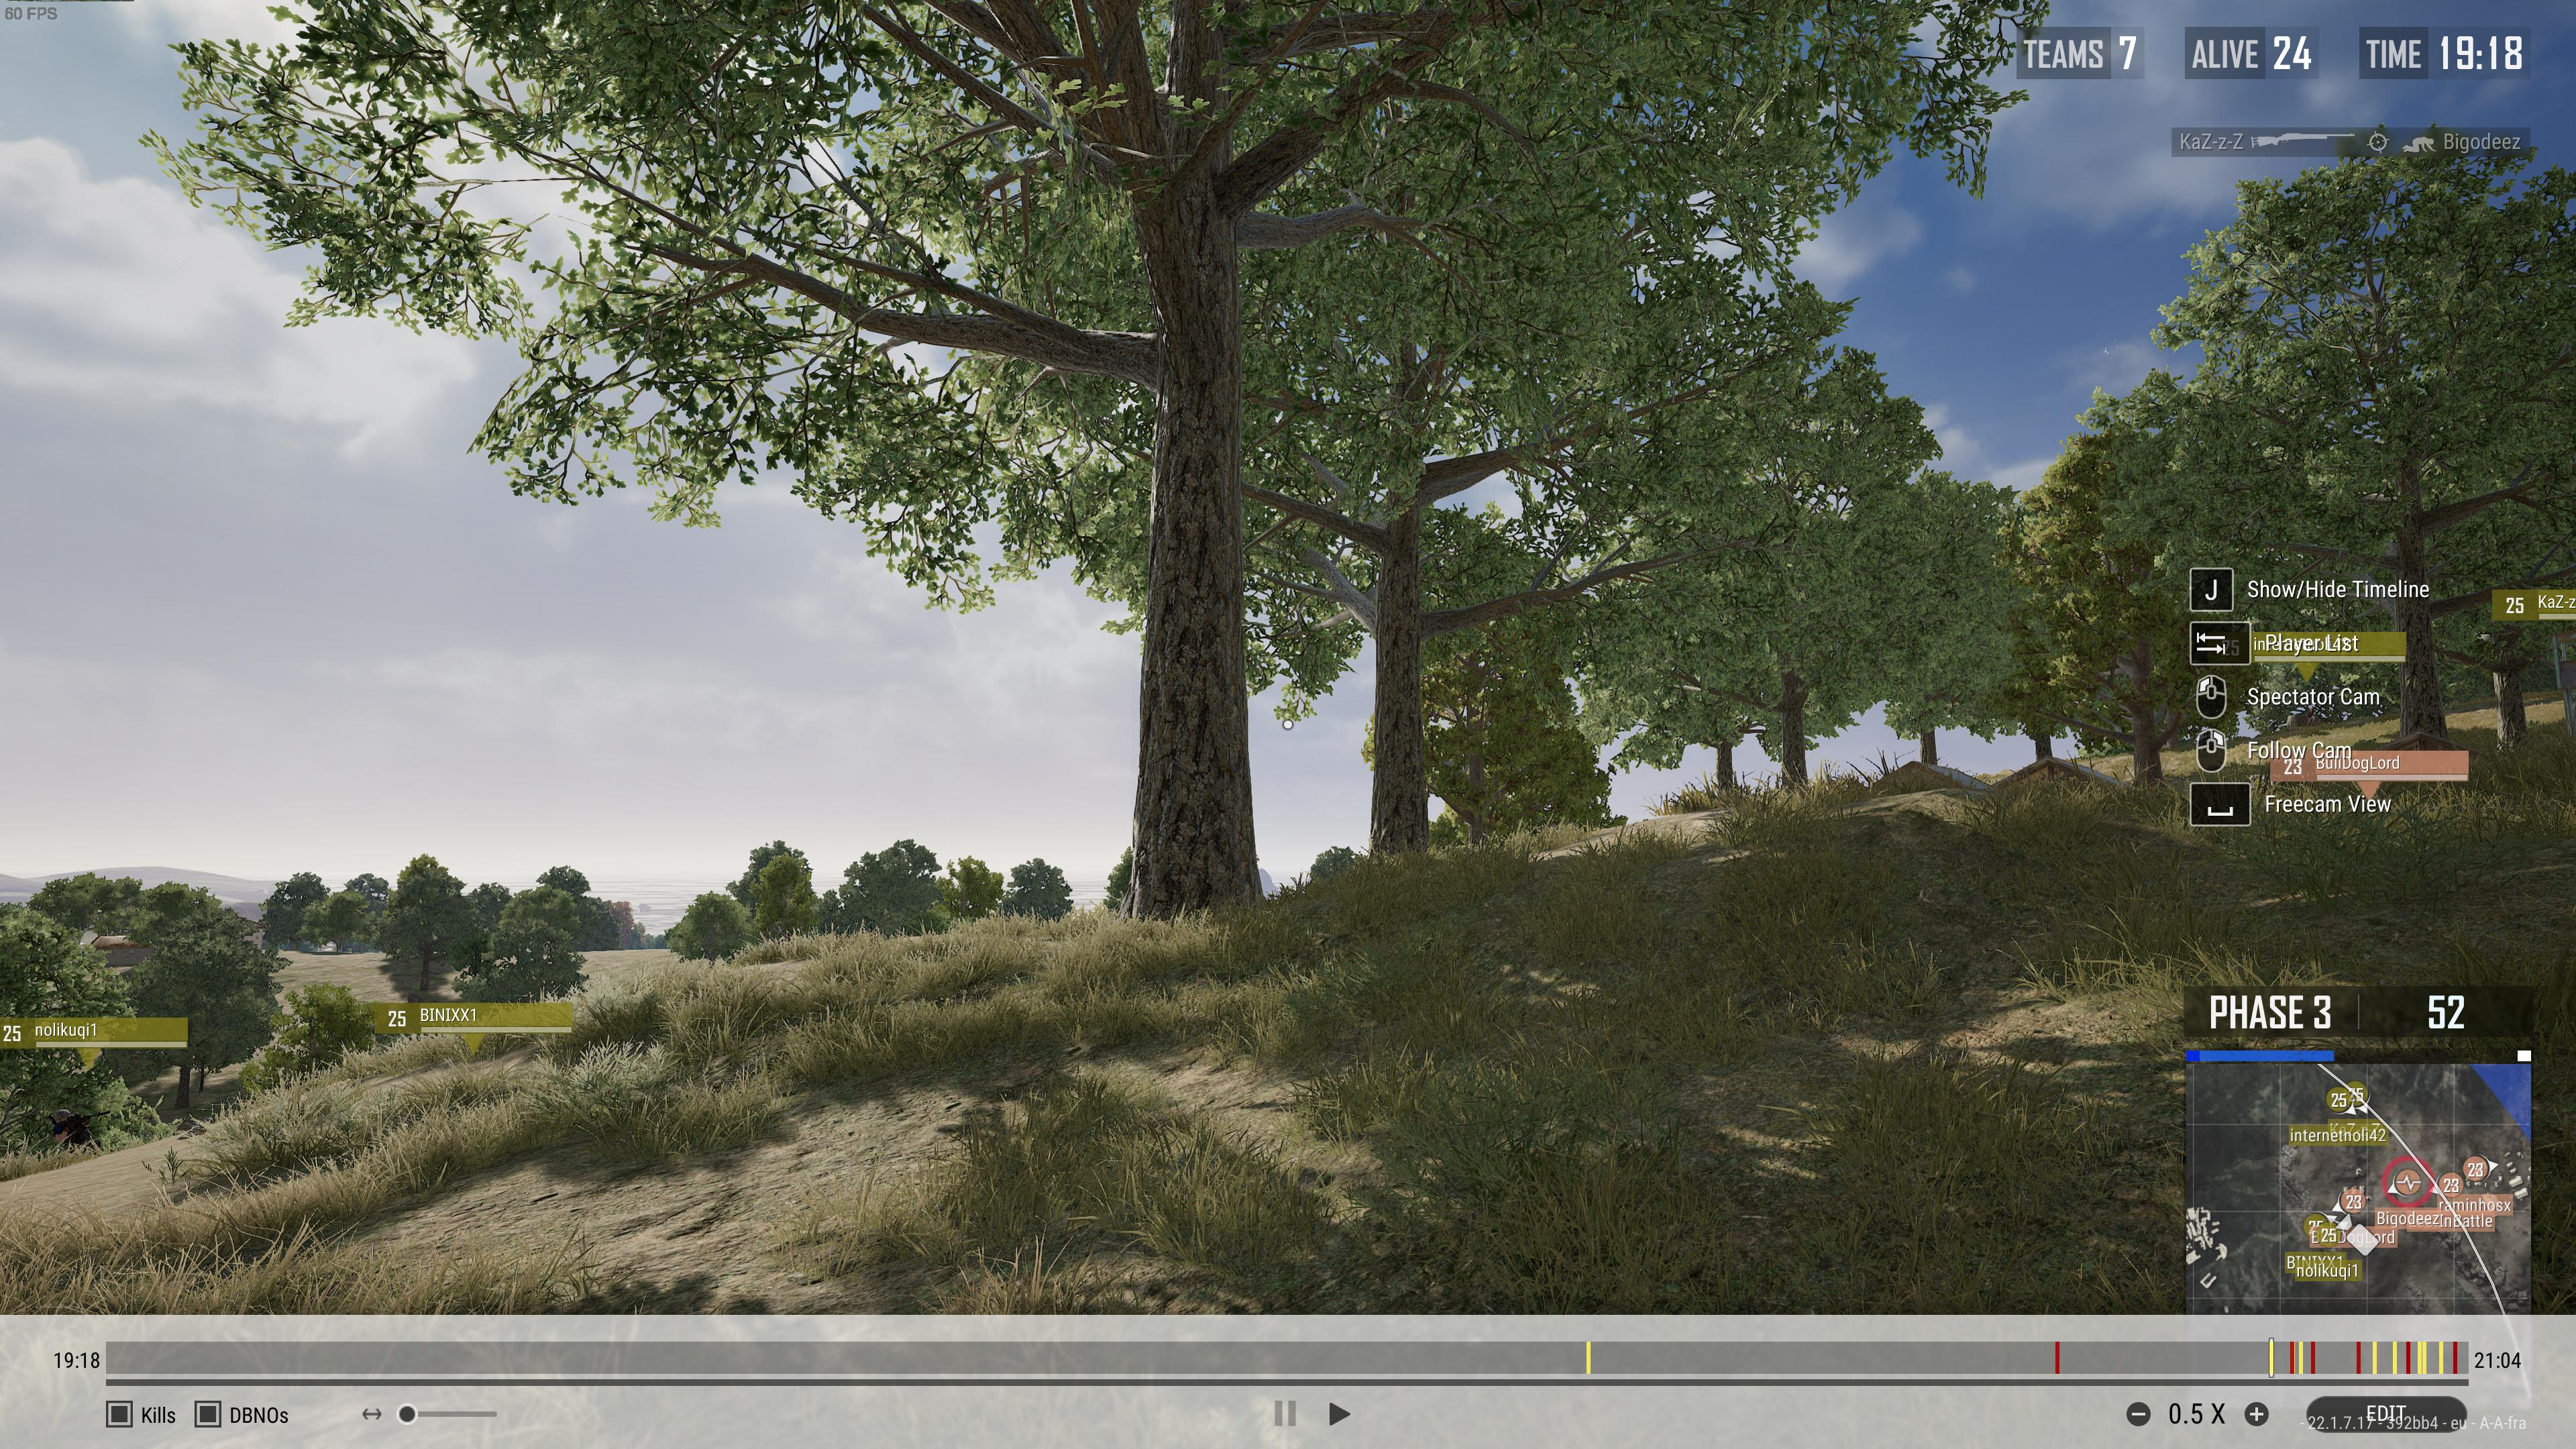enemy: (50, 1108, 99, 1154)
enemy_head: (55, 1108, 71, 1123)
